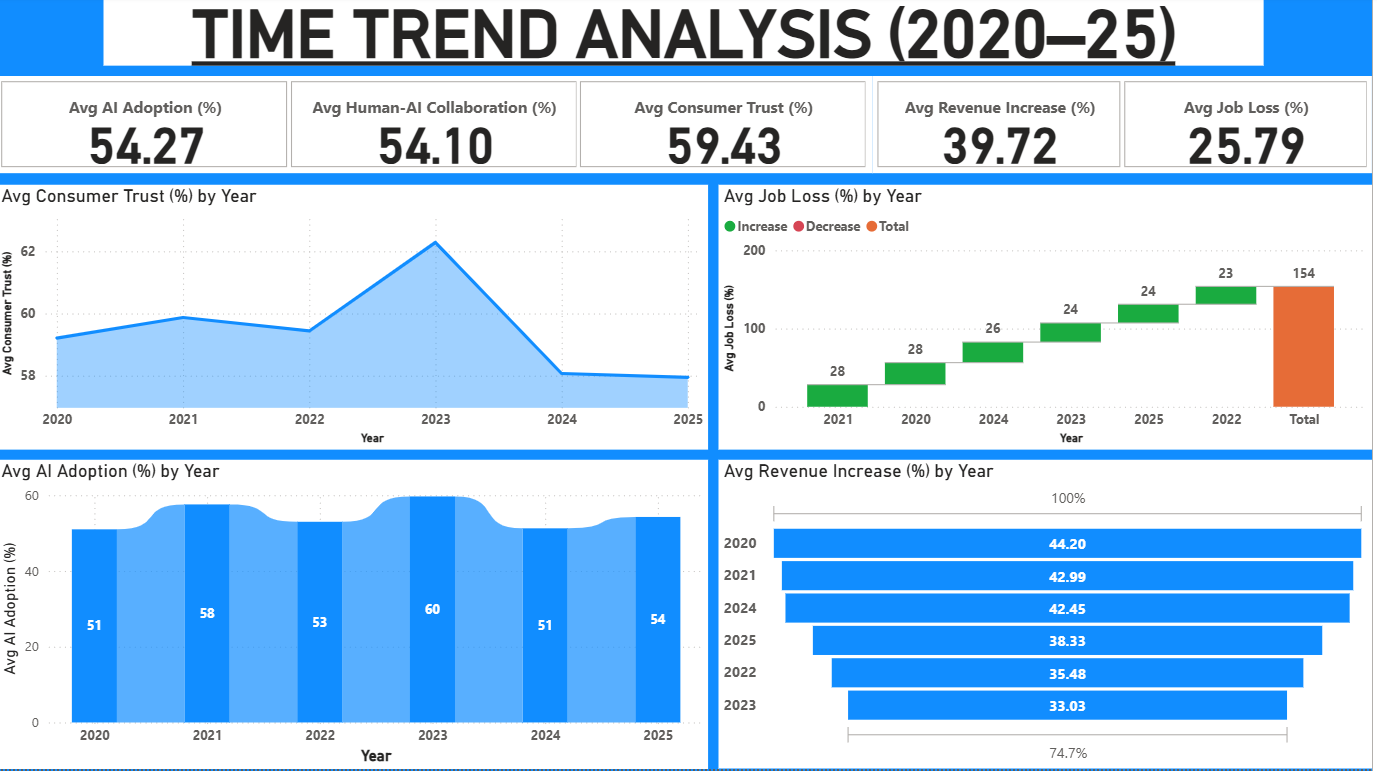

What the dashboard file says about the page in this screenshot:
{"tool":"powerbi","page":{"name":"Page 2","canvas":[1280,720],"ordinal":1},"visuals":[{"type":"cardVisual","fields":{"Data":["AI_Impact.Avg AI Adoption (%)","AI_Impact.Avg Human-AI Collaboration (%)","AI_Impact.Avg Consumer Trust (%)"]},"box":[0,74.4,815.1,90.7],"z":0},{"type":"cardVisual","fields":{"Data":["AI_Impact.Avg Revenue Increase (%)","AI_Impact.Avg Job Loss (%)"]},"box":[815.1,74.4,465.1,90.7],"z":1},{"type":"ribbonChart","fields":{"Category":["AI_Impact.Year"],"Y":["AI_Impact.Avg AI Adoption (%)"]},"box":[0,431.4,662.8,288.4],"z":2},{"type":"stackedAreaChart","fields":{"Category":["AI_Impact.Year"],"Y":["AI_Impact.Avg Consumer Trust (%)"]},"box":[0,175.6,662.8,246.5],"z":3},{"type":"waterfallChart","fields":{"Category":["AI_Impact.Year"],"Y":["AI_Impact.Avg Job Loss (%)"]},"box":[672.1,175.6,608.1,246.5],"z":4},{"type":"funnel","fields":{"Category":["AI_Impact.Year"],"Y":["AI_Impact.Avg Revenue Increase (%)"]},"box":[672.1,431.4,608.1,287.2],"z":5},{"type":"textbox","title":"TIME TREND ANALYSIS (2020–25)","box":[100,0,1079.1,65.1],"z":6}]}

Visuals, with their boxes in screenshot pixels (x1, y1, x2, y2), scaled from the page's 1280x720 canvas onto the 1377x771 screenshot:
cardVisual - AI_Impact.Avg AI Adoption (%) x AI_Impact.Avg Human-AI Collaboration (%): (x1=0, y1=80, x2=877, y2=177)
cardVisual - AI_Impact.Avg Revenue Increase (%) x AI_Impact.Avg Job Loss (%): (x1=877, y1=80, x2=1376, y2=177)
ribbonChart - AI_Impact.Year x AI_Impact.Avg AI Adoption (%): (x1=0, y1=462, x2=713, y2=770)
stackedAreaChart - AI_Impact.Year x AI_Impact.Avg Consumer Trust (%): (x1=0, y1=188, x2=713, y2=452)
waterfallChart - AI_Impact.Year x AI_Impact.Avg Job Loss (%): (x1=723, y1=188, x2=1376, y2=452)
funnel - AI_Impact.Year x AI_Impact.Avg Revenue Increase (%): (x1=723, y1=462, x2=1376, y2=770)
"TIME TREND ANALYSIS (2020–25)" textbox: (x1=108, y1=0, x2=1268, y2=70)
